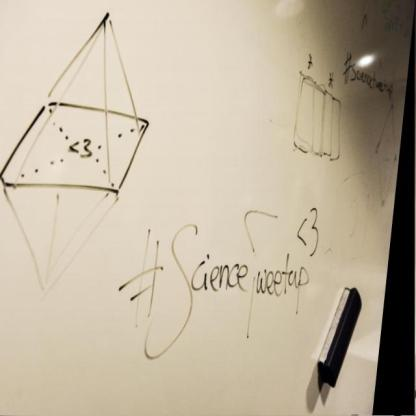Handwritten text: (146, 219, 316, 380)
